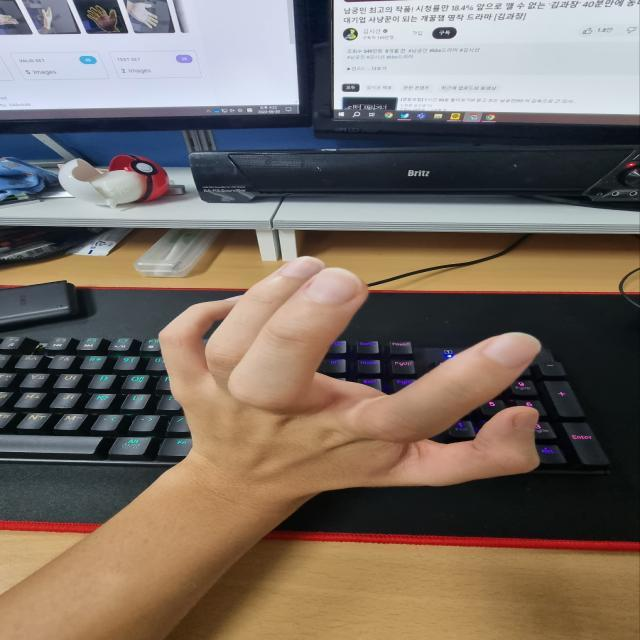keyboard-with-hands: (0, 335, 616, 469)
